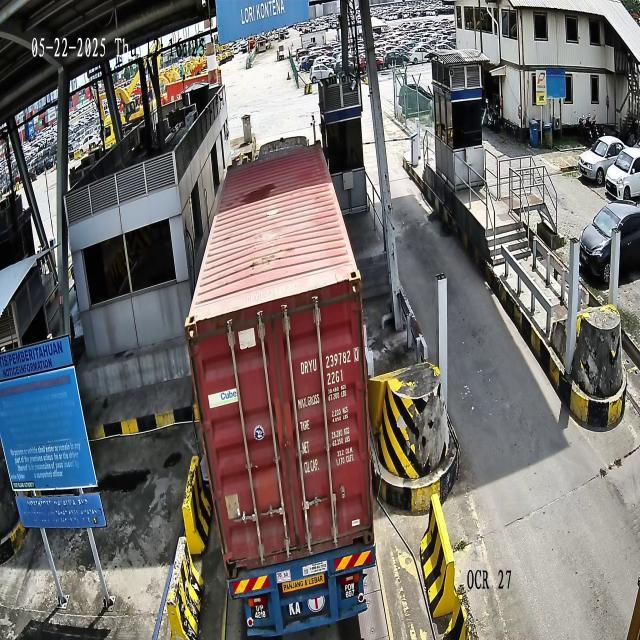ISO: (327, 368, 344, 384)
container_number: (300, 344, 360, 377)
